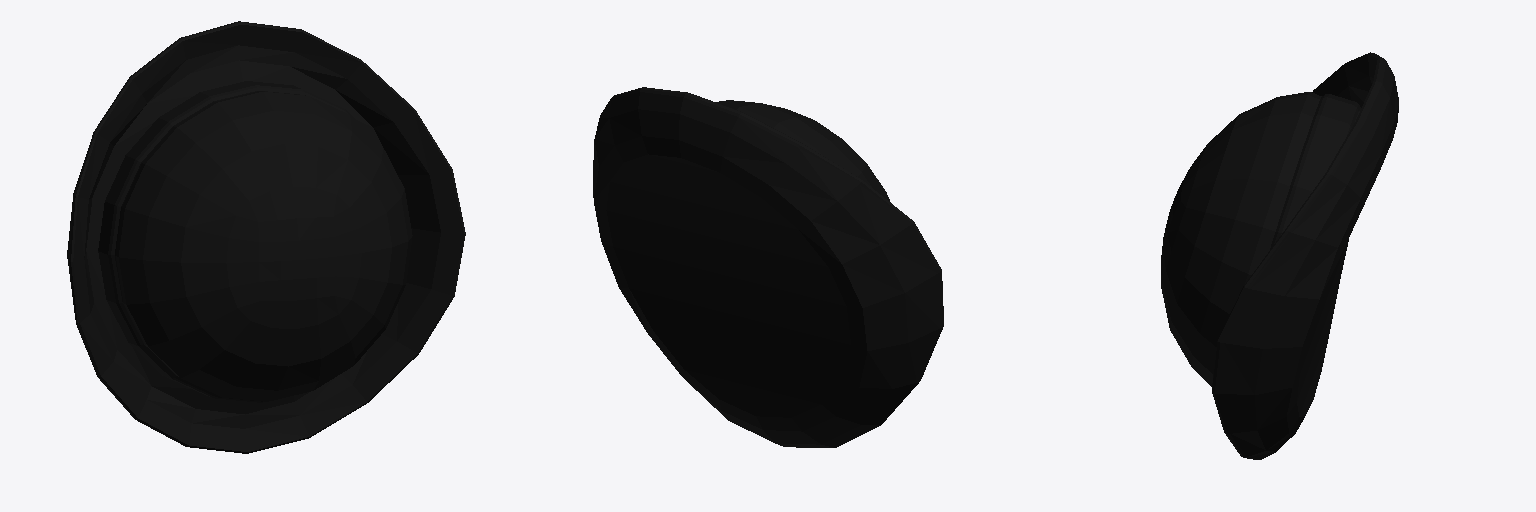
The model's file is hat.obj.
3 views of the same model, side by side, from view 1: azimuth 30°, elevation 25°; view 2: azimuth 150°, elevation 25°; view 3: azimuth 270°, elevation 25° (orthographic).
Visible parts, largest first — view 1: Object.1; view 2: Object.1; view 3: Object.1.
Part boxes in pixels (bbox=[...]): Object.1: bbox=[67, 21, 465, 453]; Object.1: bbox=[593, 87, 943, 447]; Object.1: bbox=[1161, 52, 1398, 459].
Size of the model in its own units: 327 by 332 by 188.